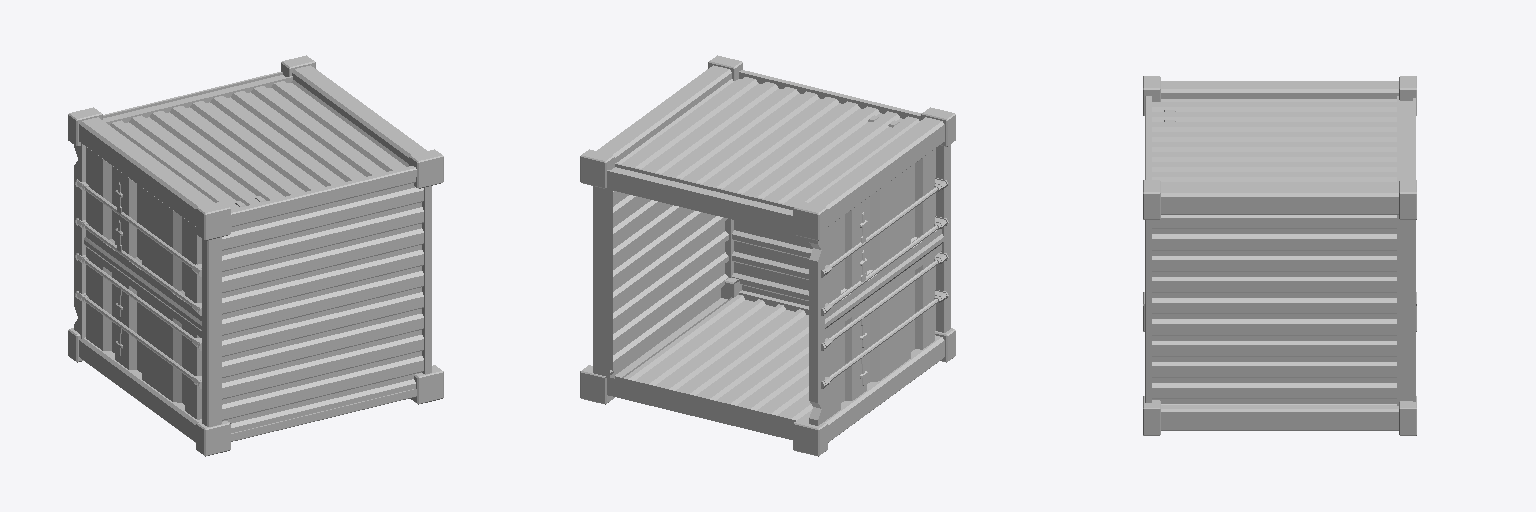
Rendered from container.obj.
The picture shows the model from 3 angles: view 1: azimuth 30°, elevation 25°; view 2: azimuth 150°, elevation 25°; view 3: azimuth 270°, elevation 25°; orthographic projection.
Bounding box in the file's own units: 3 × 2.91 × 2.98.